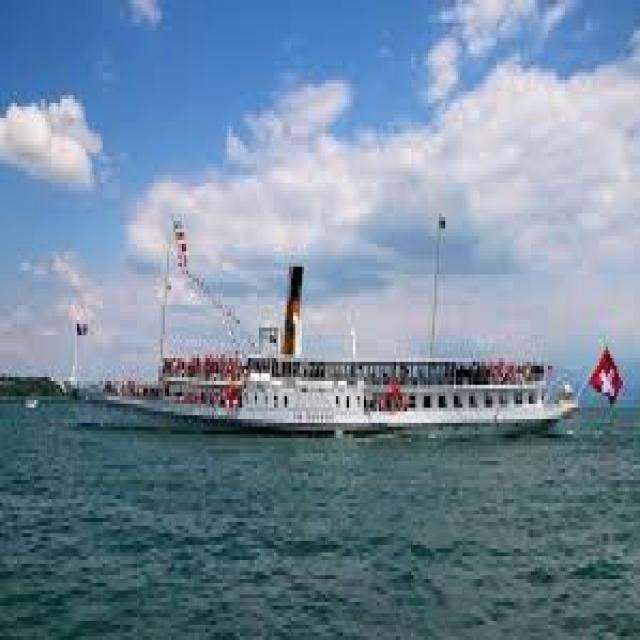passenger ship: (110, 266, 577, 460)
